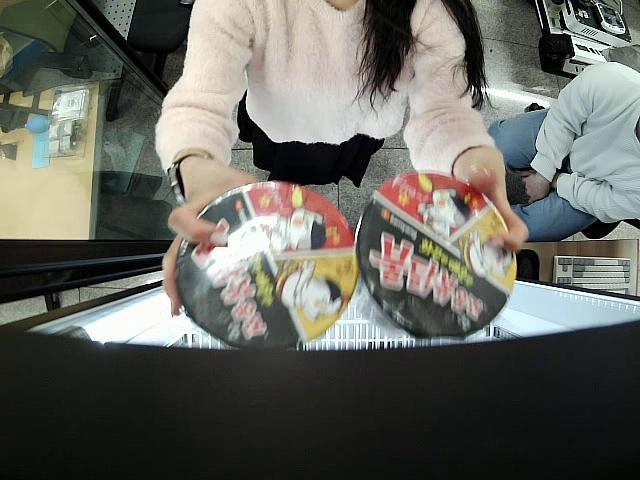00_hand: (161, 163, 260, 322), (451, 148, 529, 255)
07_buldak_L: (175, 184, 356, 348), (355, 172, 519, 339)
